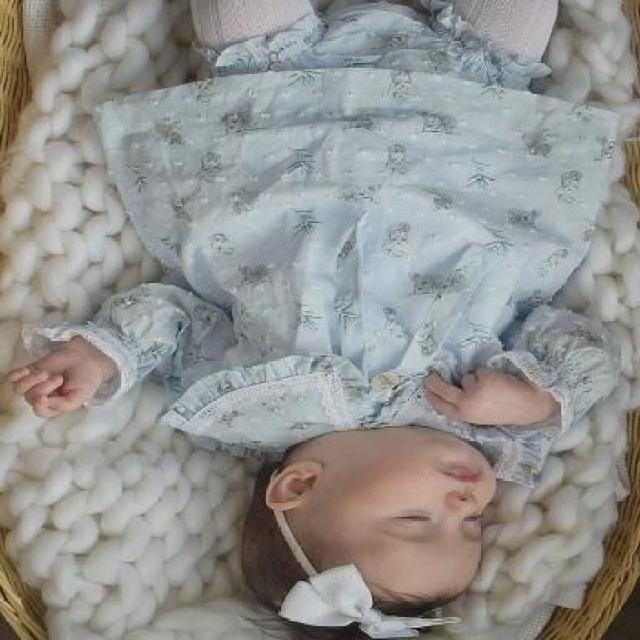baby: (6, 1, 623, 632)
